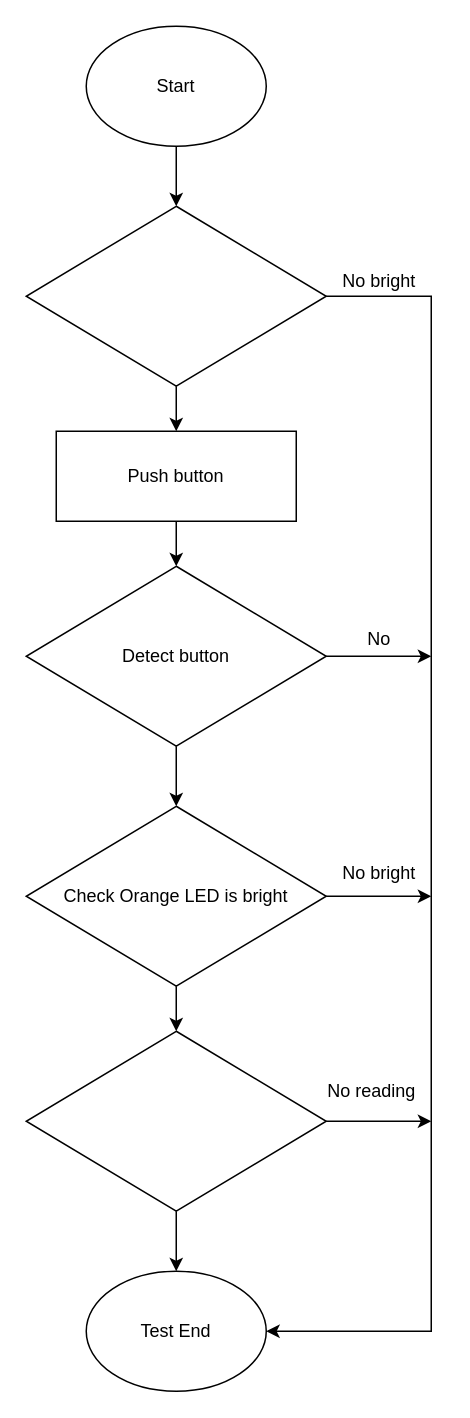
Some shapes in this 470 by 1418 pixel diagram are drawn without their labels. Each missing label, with the centre of its shape:
Check Blue LED is bright: (x=175, y=295)
Detect TMP75 Temperature: (x=175, y=1120)
